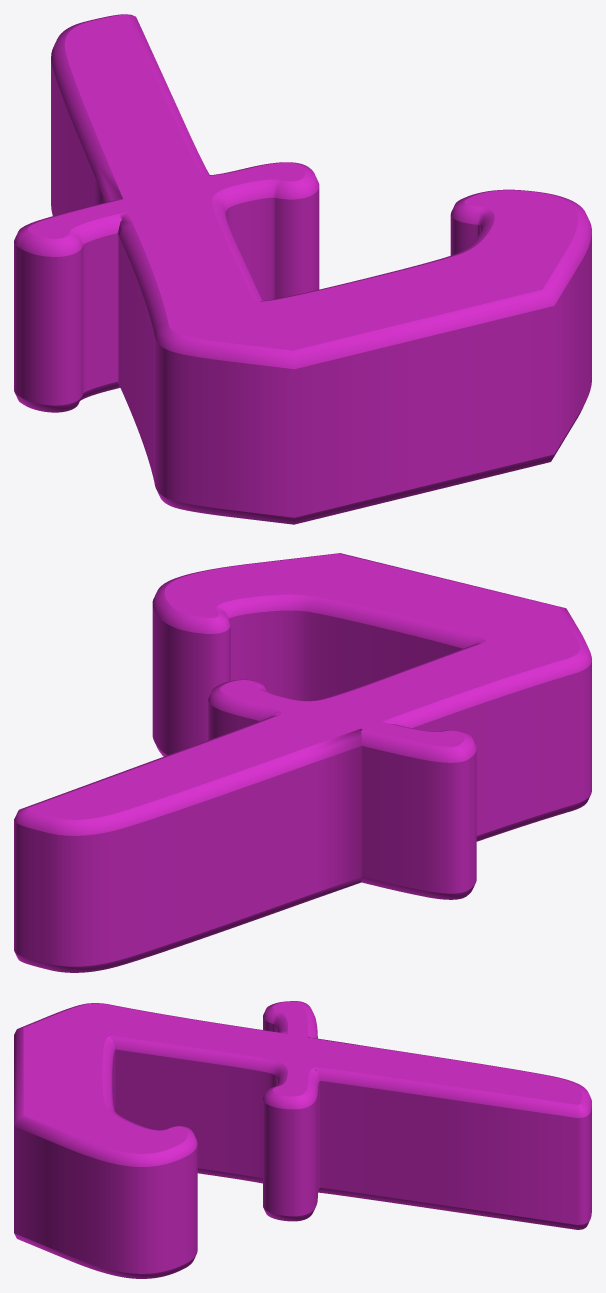
File: Number_7.fbx
The picture shows the model from 3 angles, top to bottom: view 1: azimuth 30°, elevation 25°; view 2: azimuth 150°, elevation 25°; view 3: azimuth 270°, elevation 25°; orthographic projection. The views are drawn at different scales.
Parts seen in each view (by area): view 1: Number_7; view 2: Number_7; view 3: Number_7.
Boxes of the visible parts, left/top/right/bottom form: Number_7: left=14, top=14, right=591, bottom=524; Number_7: left=14, top=553, right=591, bottom=972; Number_7: left=14, top=1001, right=591, bottom=1278.
Size of the model in its own units: 0.3875 by 0.14 by 0.5882.
